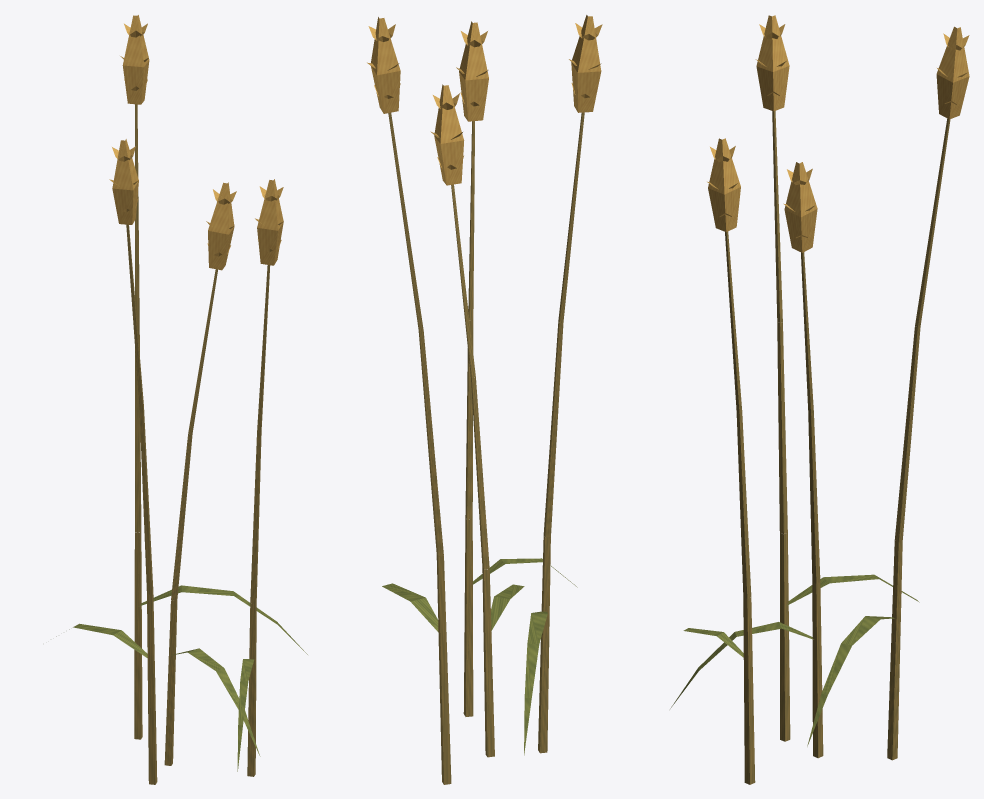
File: Wheat_Cluster_A_LOD1.glb
The picture shows the model from 3 angles, left to right: view 1: azimuth 30°, elevation 25°; view 2: azimuth 150°, elevation 25°; view 3: azimuth 270°, elevation 25°; orthographic projection. The views are drawn at different scales.
Visible parts, largest first — view 1: world; view 2: world; view 3: world.
Boxes of the visible parts, <box> form: world: <box>56,15,307,784</box>; world: <box>367,15,602,784</box>; world: <box>670,15,969,784</box>.
Bounding box in the file's own units: 0.6034 × 1.74 × 0.7076.
Materials: 1 (1 with a texture image).
